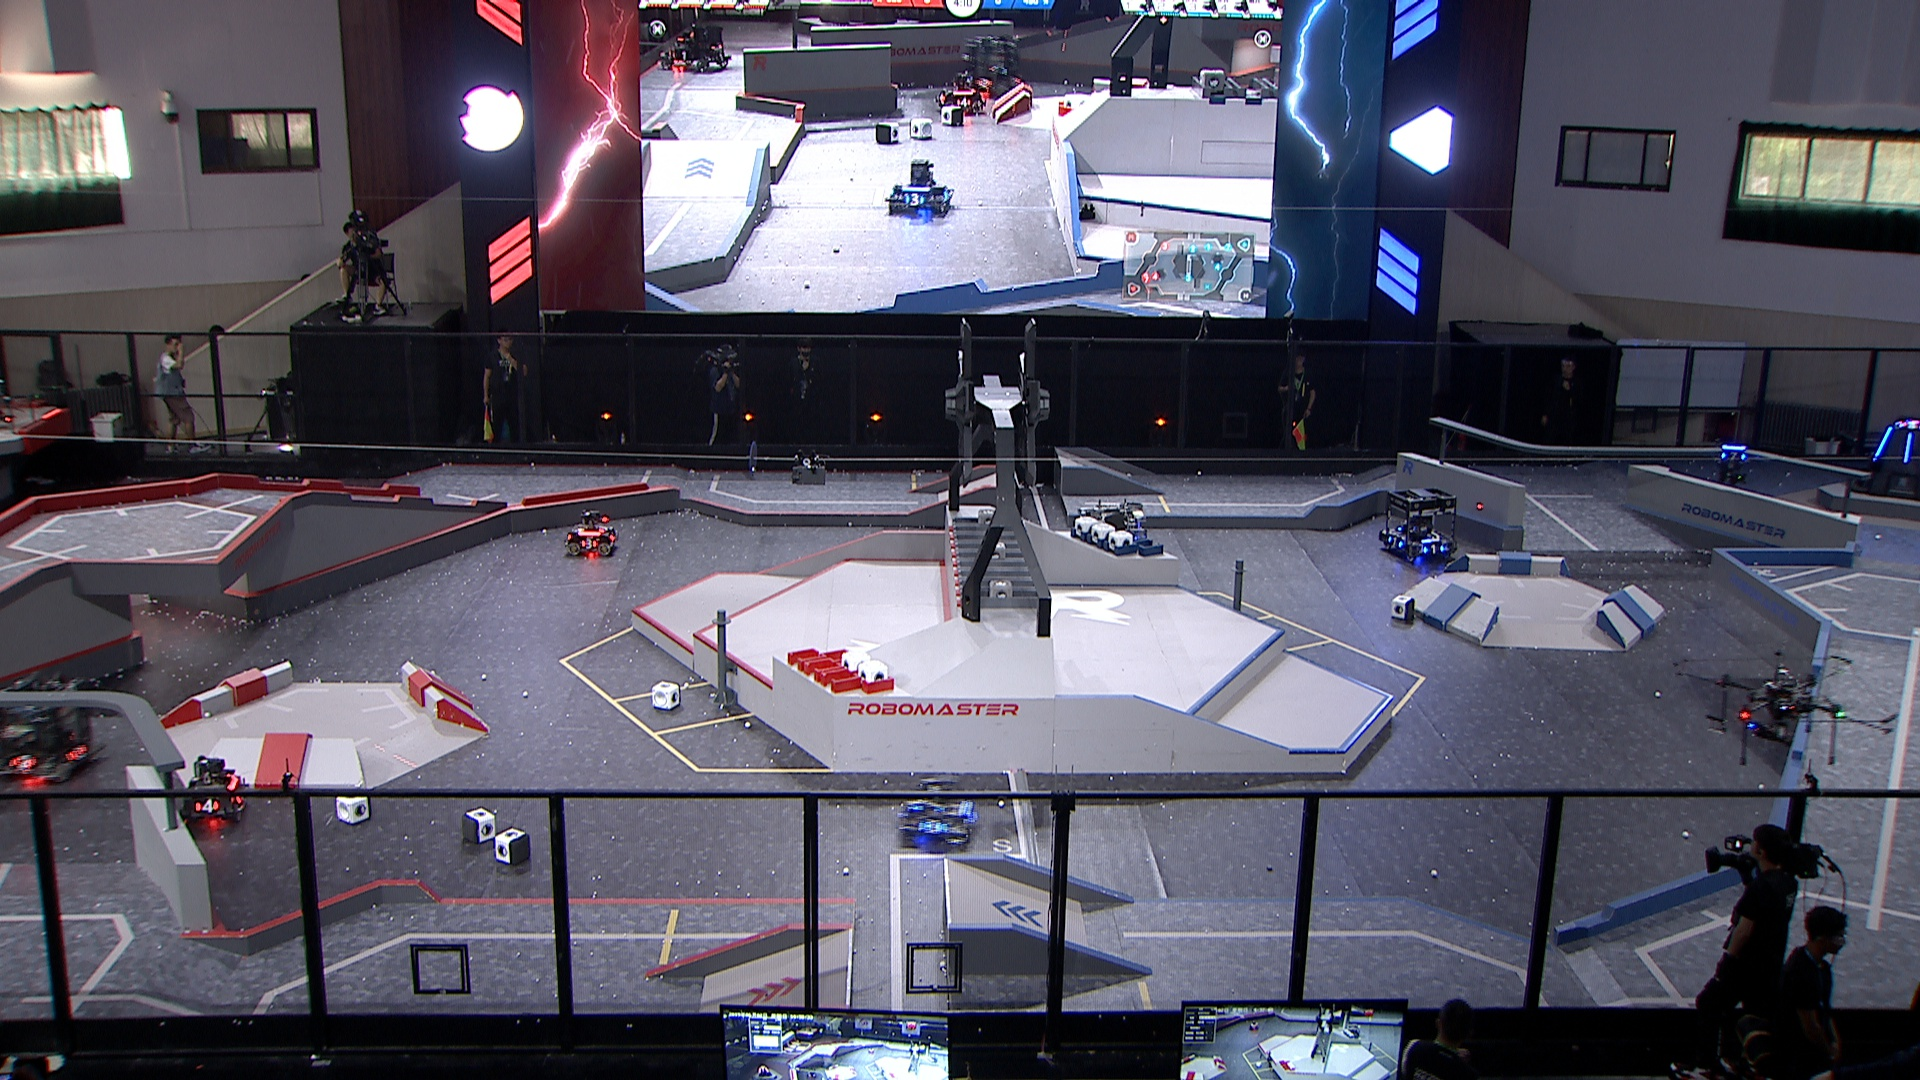armor: (1873, 427, 1898, 463), (63, 745, 92, 765), (920, 818, 949, 835), (193, 799, 220, 815), (11, 754, 36, 771), (1903, 433, 1915, 465), (1420, 542, 1447, 556), (1385, 535, 1404, 553), (1718, 451, 1749, 462), (907, 796, 926, 814), (580, 535, 600, 551)
base: (1851, 418, 1920, 502)
car: (1073, 501, 1153, 588), (1375, 488, 1460, 564), (897, 777, 982, 847), (175, 754, 251, 825), (564, 510, 621, 559)
ignore: (659, 17, 733, 76), (885, 157, 956, 218), (961, 36, 1022, 92), (935, 71, 986, 117), (1898, 418, 1920, 433)
watcher: (1716, 442, 1751, 483)
